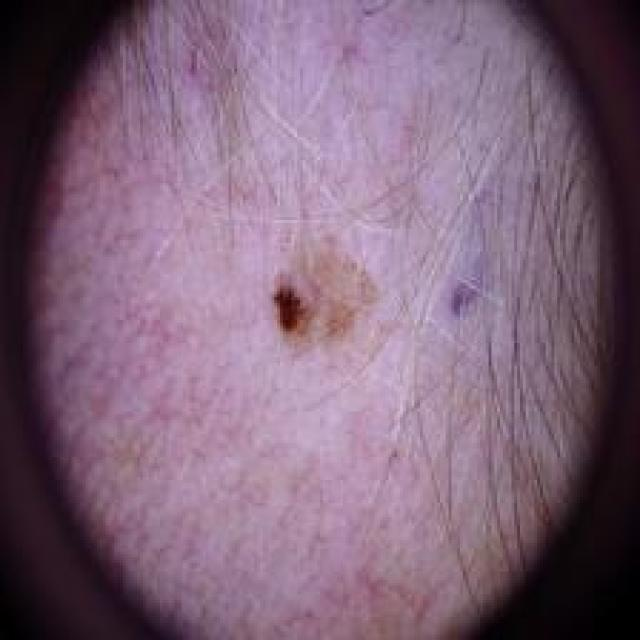Cancer: (262, 244, 362, 342)
